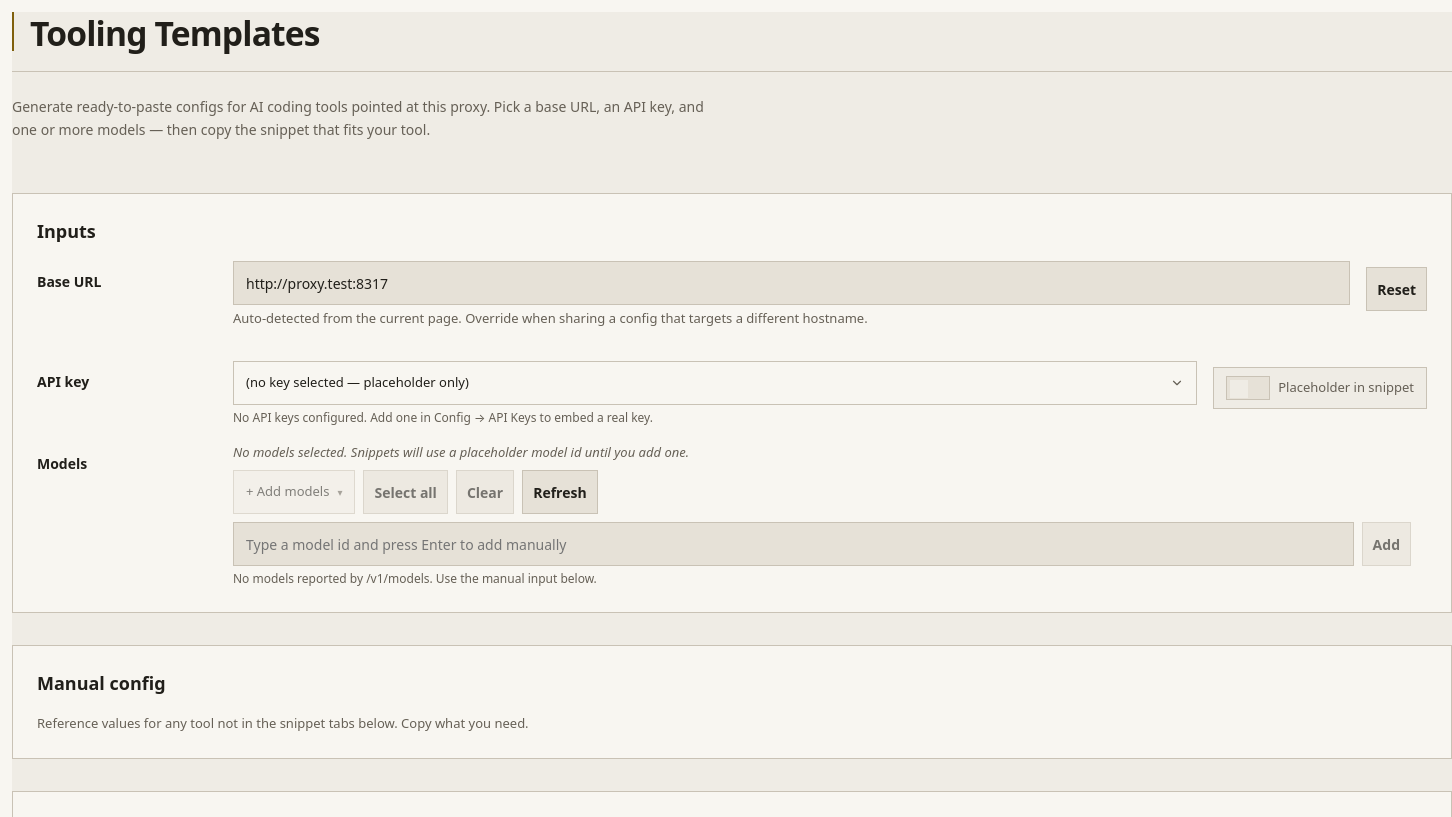
Test case: ToolingTemplatesPage base URL input › resets a manually edited base URL back to the auth store apiBase
The image size is (1452, 817).
Replace the text in the field labelled "Base URL" with "http://elsewhere:9000" at {"x": 792, "y": 283}, box [233,261,1350,305]
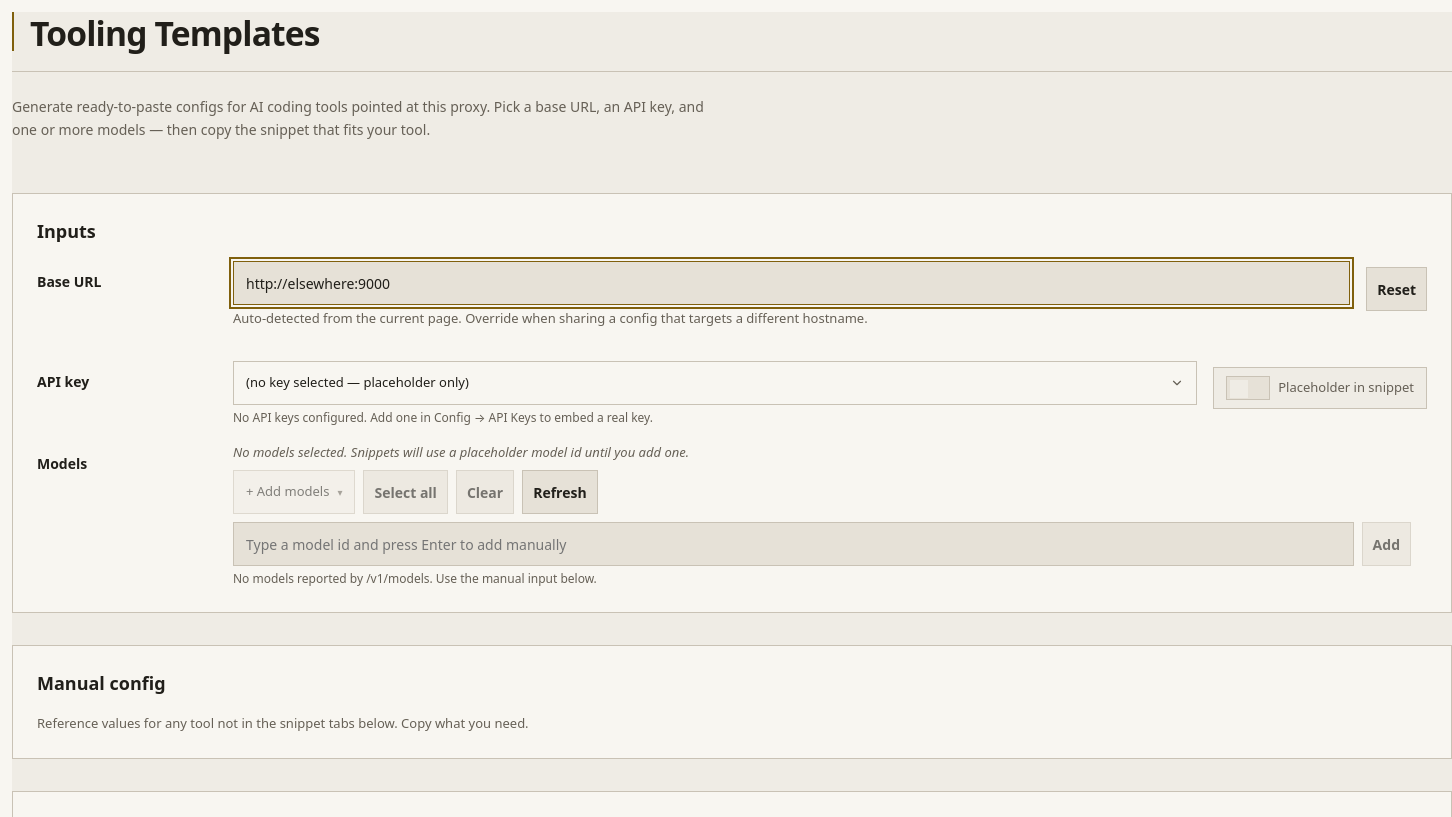
Click the button "Reset" at {"x": 1397, "y": 289}, box [1366,267,1427,311]
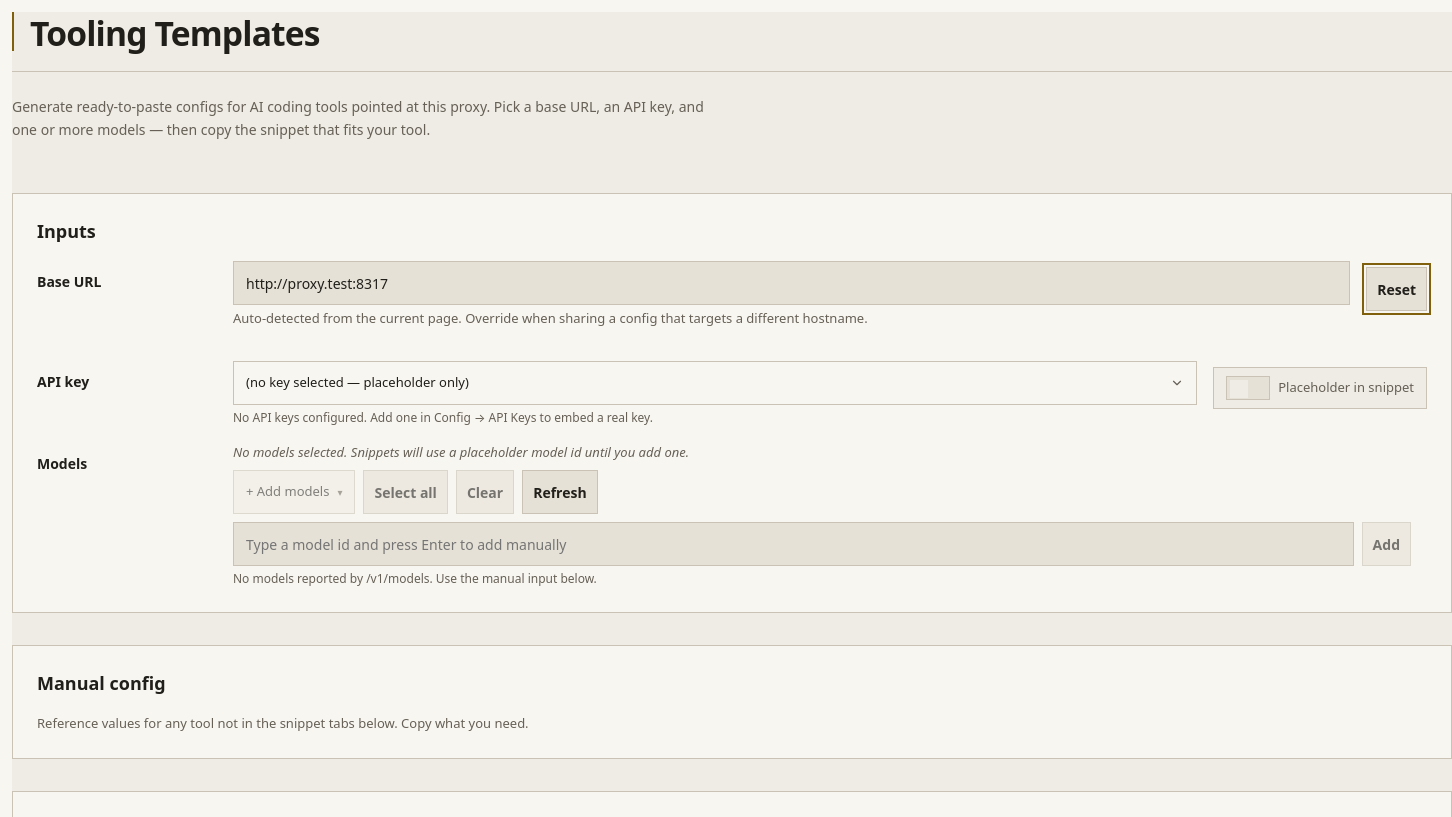
Now the field labelled "Base URL" holds "http://proxy.test:8317", box [233,261,1350,305]
